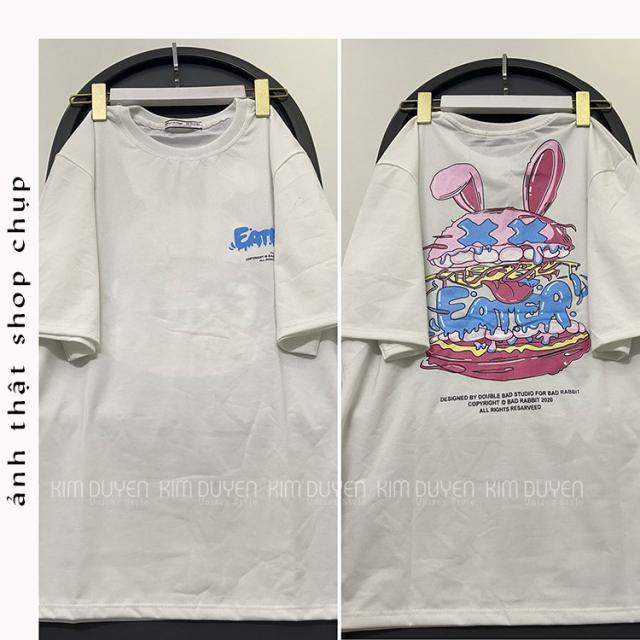Shirt: (39, 93, 336, 620), (340, 116, 640, 629)
